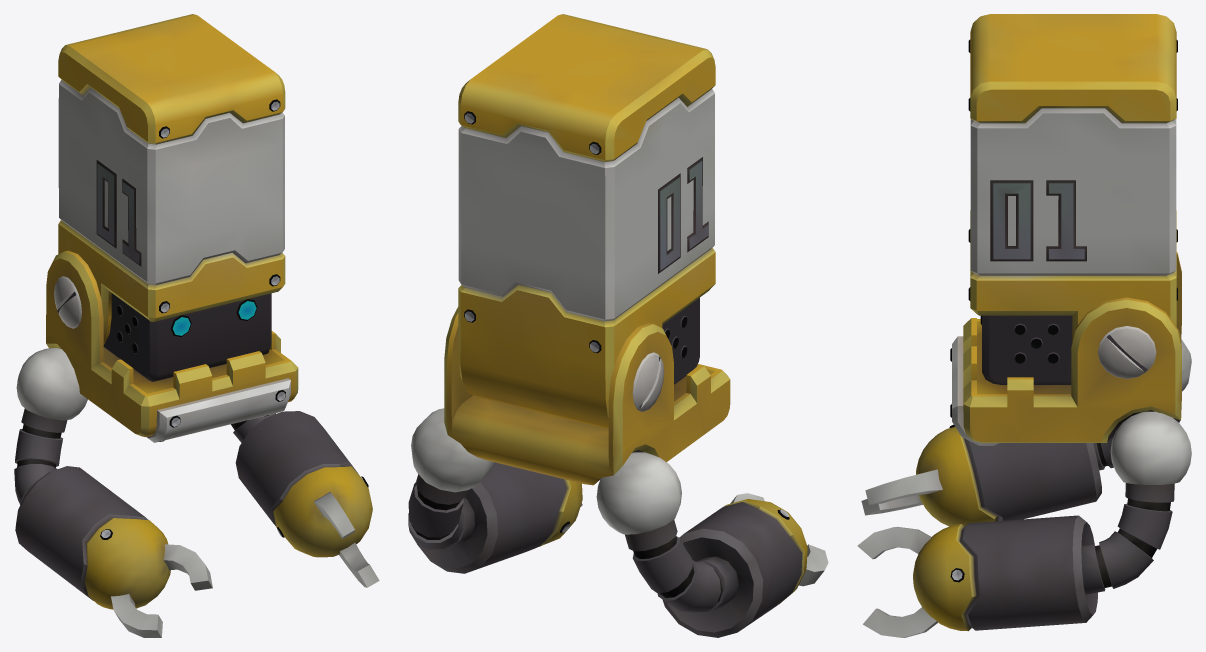
Rendered from robot.fbx.
The picture shows the model from 3 angles, left to right: view 1: azimuth 30°, elevation 25°; view 2: azimuth 150°, elevation 25°; view 3: azimuth 270°, elevation 25°; orthographic projection. The views are drawn at different scales.
Parts seen in each view (by area): view 1: Head, Hand, Jaw, Face, Chin, Number, Eyes; view 2: Head, Hand, Jaw, Number, Face, Eyes, Chin; view 3: Head, Hand, Jaw, Face, Number, Eyes, Chin.
Part boxes in pixels (left/top/right/bottom): Head: left=58, top=14, right=285, bottom=344; Hand: left=14, top=348, right=379, bottom=637; Jaw: left=46, top=250, right=298, bottom=436; Face: left=103, top=293, right=271, bottom=381; Chin: left=100, top=99, right=368, bottom=539; Number: left=96, top=160, right=141, bottom=266; Eyes: left=54, top=276, right=257, bottom=353; Head: left=458, top=14, right=715, bottom=428; Hand: left=408, top=408, right=828, bottom=637; Jaw: left=444, top=307, right=730, bottom=485; Number: left=658, top=157, right=708, bottom=273; Face: left=662, top=298, right=699, bottom=384; Eyes: left=632, top=316, right=687, bottom=411; Chin: left=464, top=111, right=789, bottom=532; Head: left=970, top=14, right=1176, bottom=342; Hand: left=857, top=339, right=1191, bottom=637; Jaw: left=963, top=252, right=1181, bottom=442; Face: left=982, top=315, right=1072, bottom=384; Number: left=990, top=180, right=1086, bottom=261; Eyes: left=980, top=315, right=1156, bottom=378; Chin: left=949, top=39, right=1177, bottom=582.
Bounding box in the file's own units: 379 × 570 × 325.
